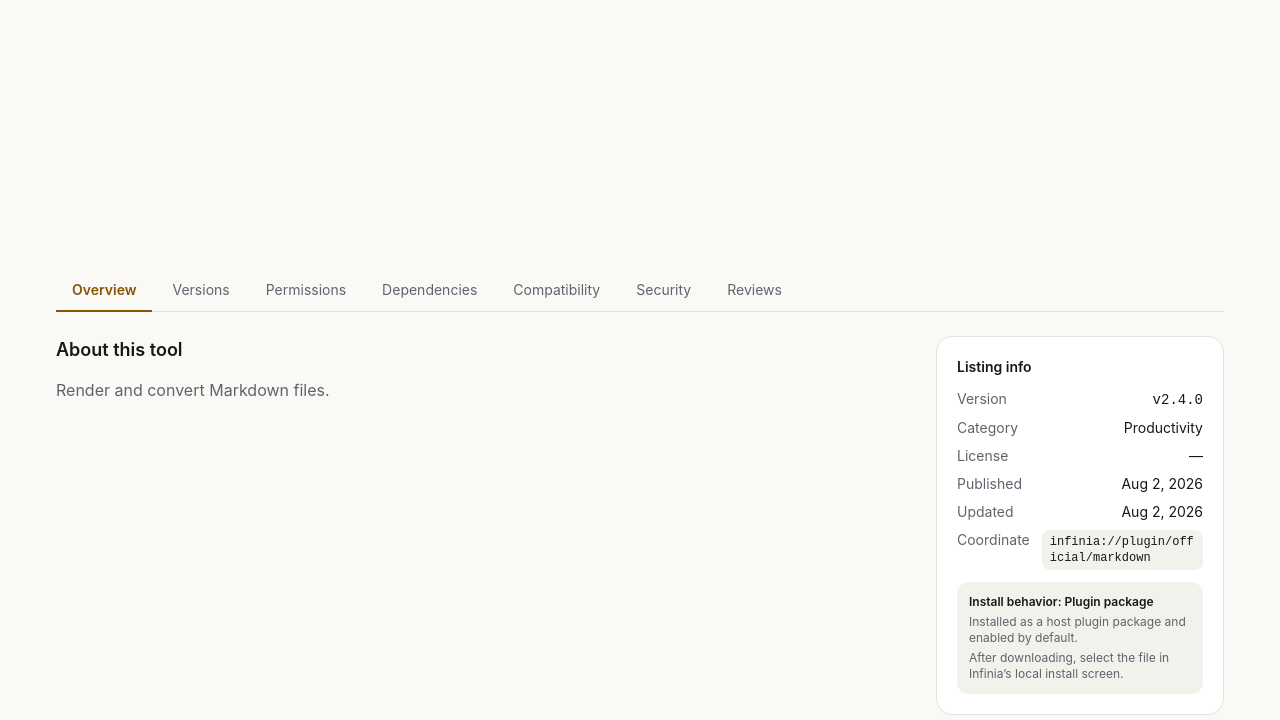
Test: ListingDetailView offline package download (网页直接下载安装包) › keeps per-release direct downloads on the versions tab, retryable after failure
The image size is (1280, 720).
Click the tab "Versions" at (201, 290), box [156,270,246,312]
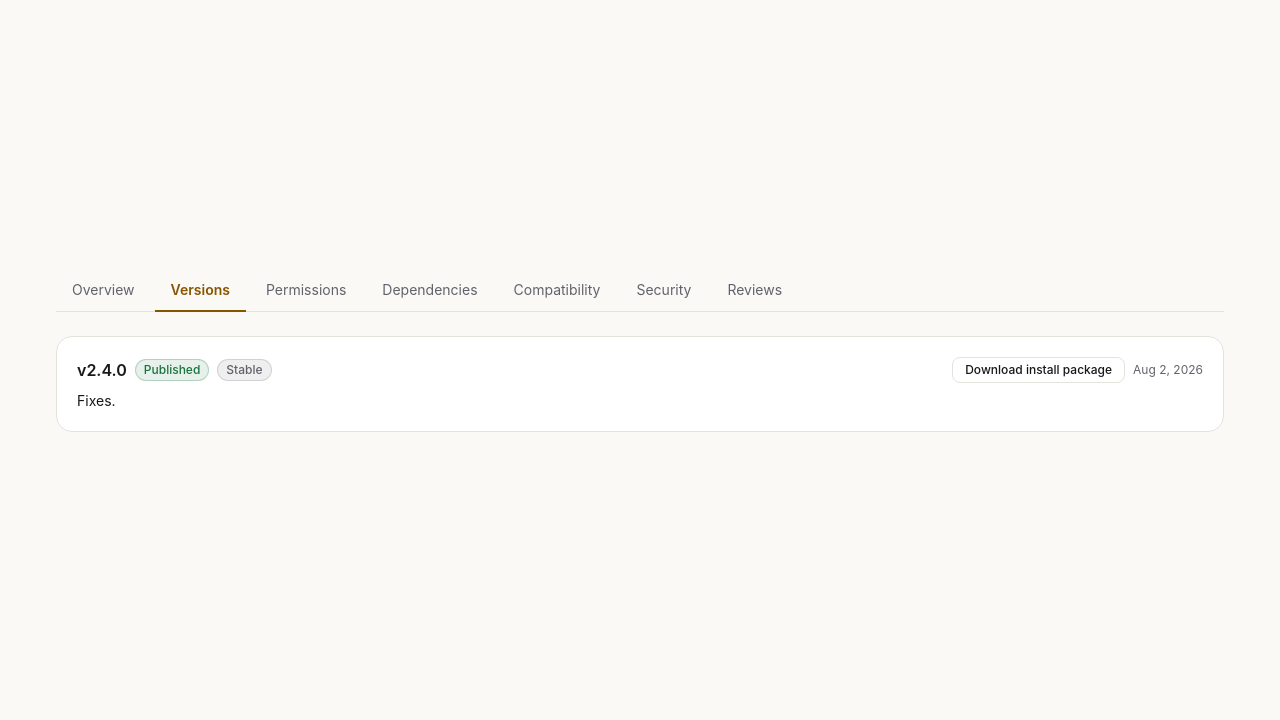
Click the button "Download install package" at (1039, 370), box [952,356,1125,382]
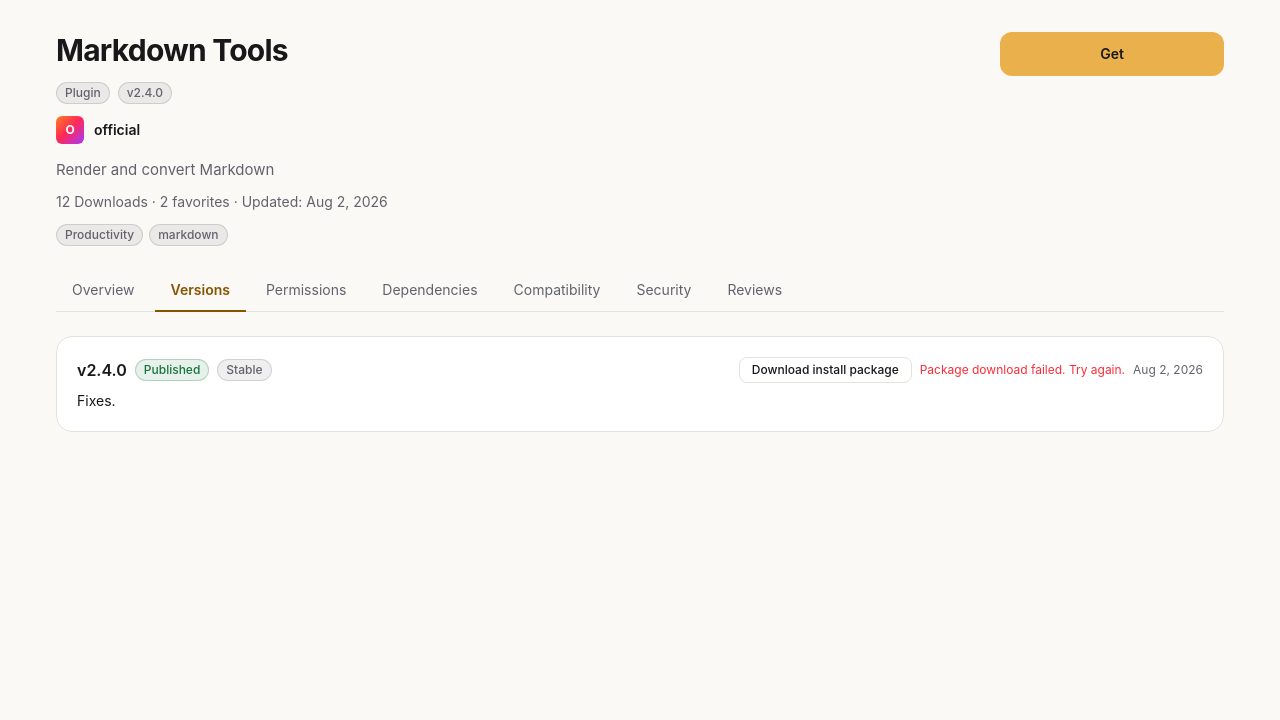
Expected: the button "Download install package" is enabled
Expected: the text "Package download failed. Try again." is shown, [920,362,1125,378]
Click the button "Download install package" at (825, 370), box [739,356,912,382]
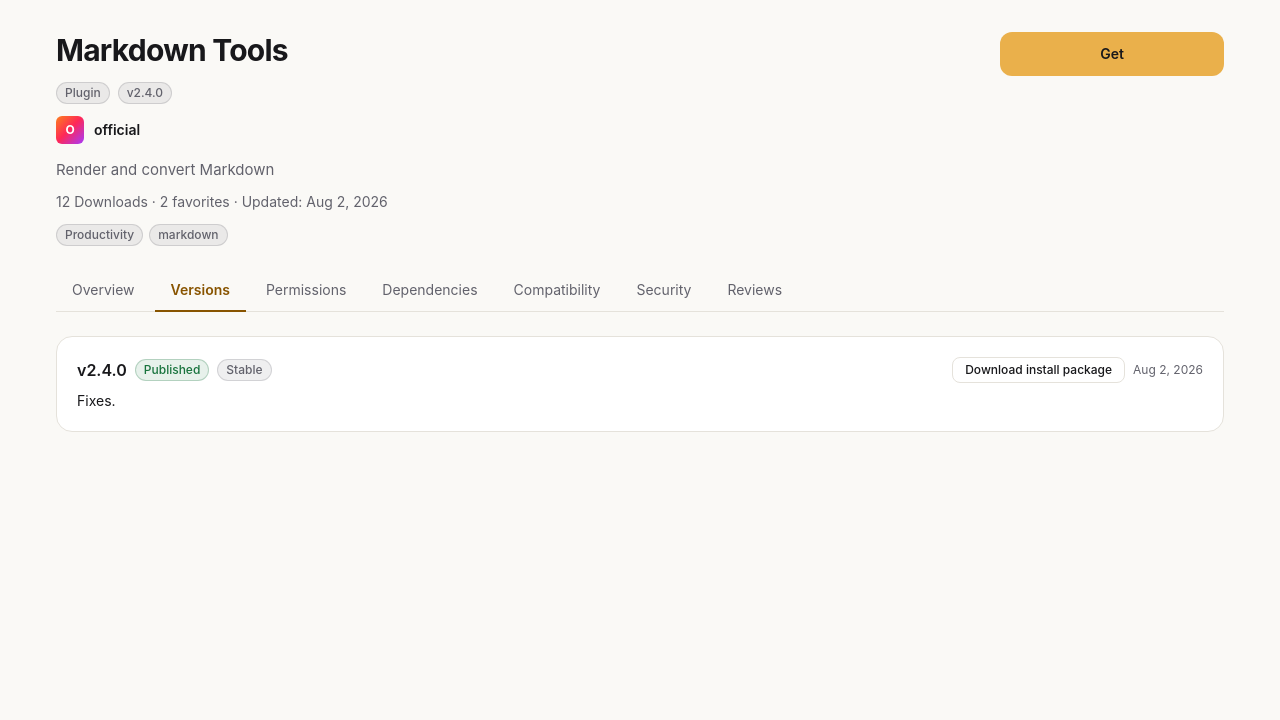
Expected: the text "Package download failed. Try again." is gone
